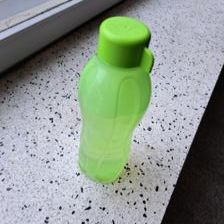bottle: (73, 12, 159, 188)
